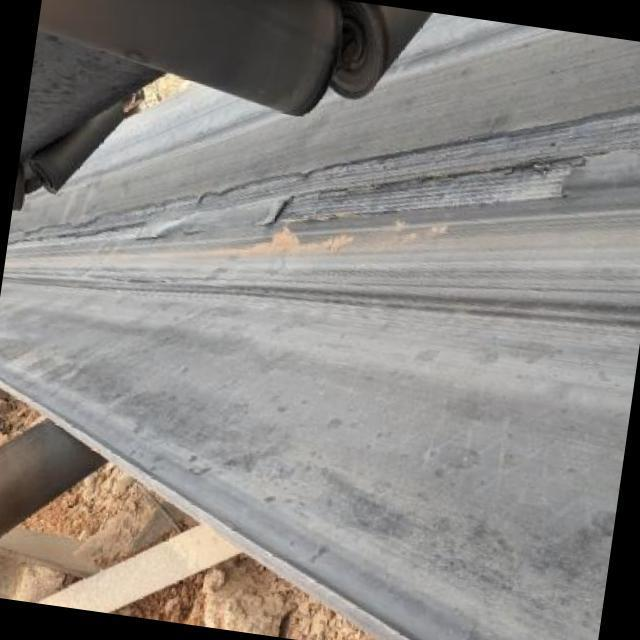Tear: (0, 101, 640, 253)
